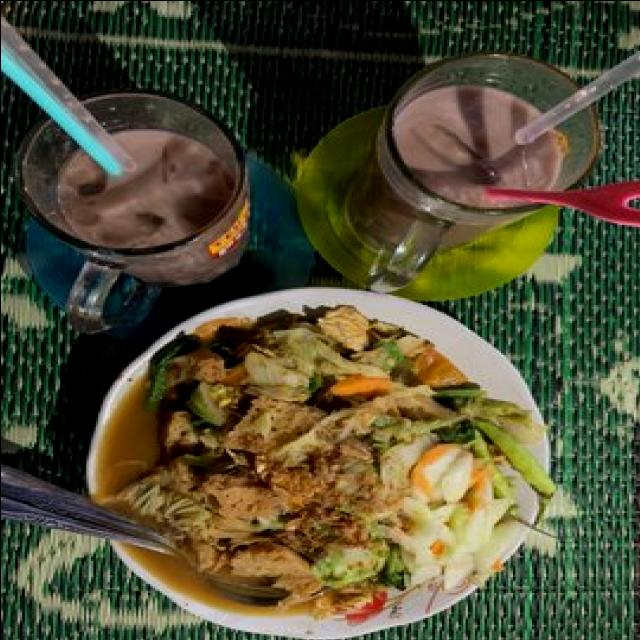capcay: (83, 292, 557, 640)
